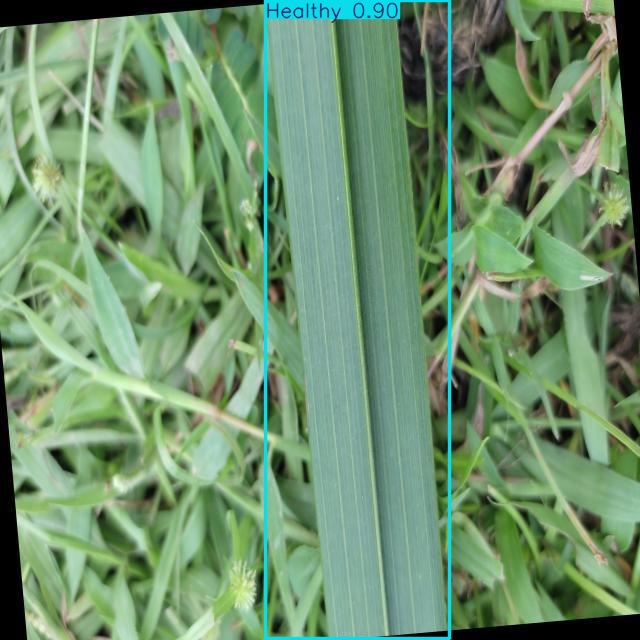Healthy: (266, 0, 449, 639)
